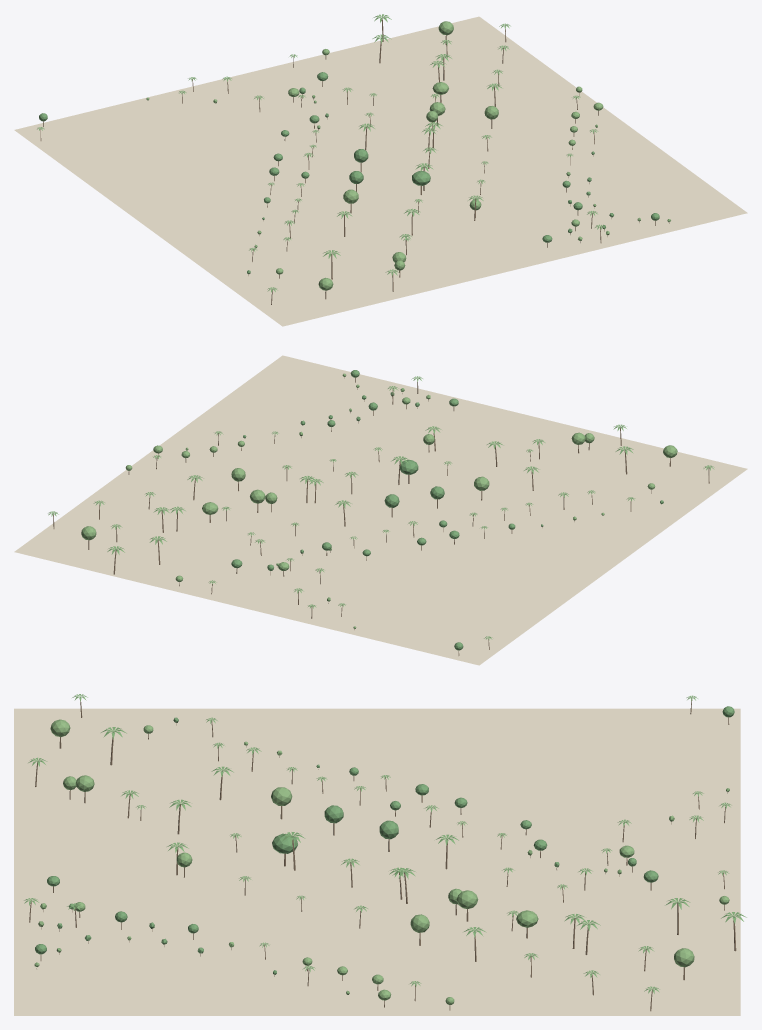
The model's file is nature_-5_0.glb.
3 views of the same model, one above another, from view 1: azimuth 30°, elevation 25°; view 2: azimuth 150°, elevation 25°; view 3: azimuth 270°, elevation 25° (orthographic). The views are drawn at different scales.
Visible parts, largest first — view 1: ground, foliage_b, palm_leaf, foliage_a, trunk; view 2: ground, foliage_b, palm_leaf, trunk, foliage_a; view 3: ground, foliage_b, palm_leaf, foliage_a, trunk.
Boxes of the visible parts, x1=… form: ground: x1=14, y1=16, x2=747, y2=326; foliage_b: x1=146, y1=21, x2=670, y2=290; palm_leaf: x1=37, y1=14, x2=605, y2=292; foliage_a: x1=39, y1=72, x2=659, y2=274; trunk: x1=40, y1=18, x2=669, y2=304; ground: x1=14, y1=355, x2=747, y2=665; foliage_b: x1=81, y1=373, x2=677, y2=628; palm_leaf: x1=48, y1=376, x2=714, y2=640; trunk: x1=53, y1=377, x2=709, y2=655; foliage_a: x1=231, y1=370, x2=663, y2=650; ground: x1=14, y1=708, x2=740, y2=1015; foliage_b: x1=34, y1=719, x2=729, y2=1004; palm_leaf: x1=24, y1=694, x2=746, y2=993; foliage_a: x1=35, y1=706, x2=734, y2=974; trunk: x1=29, y1=700, x2=736, y2=1011.
Bounding box in the file's own units: 250 × 13.5 × 252.
